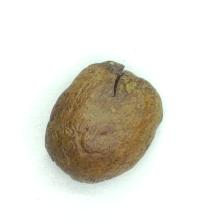NG: (93, 59, 160, 103)
